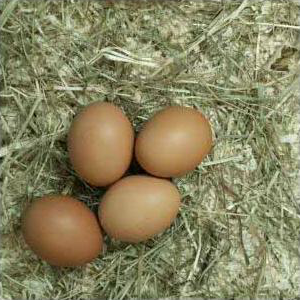egg: (21, 193, 104, 267), (96, 175, 182, 244), (134, 106, 214, 180), (68, 101, 134, 189)
